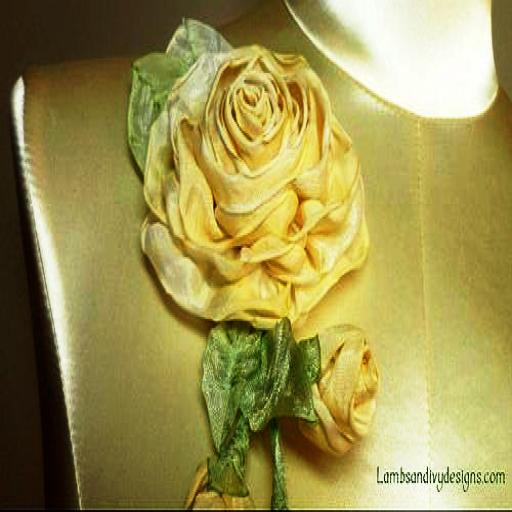rose: (148, 42, 360, 311)
